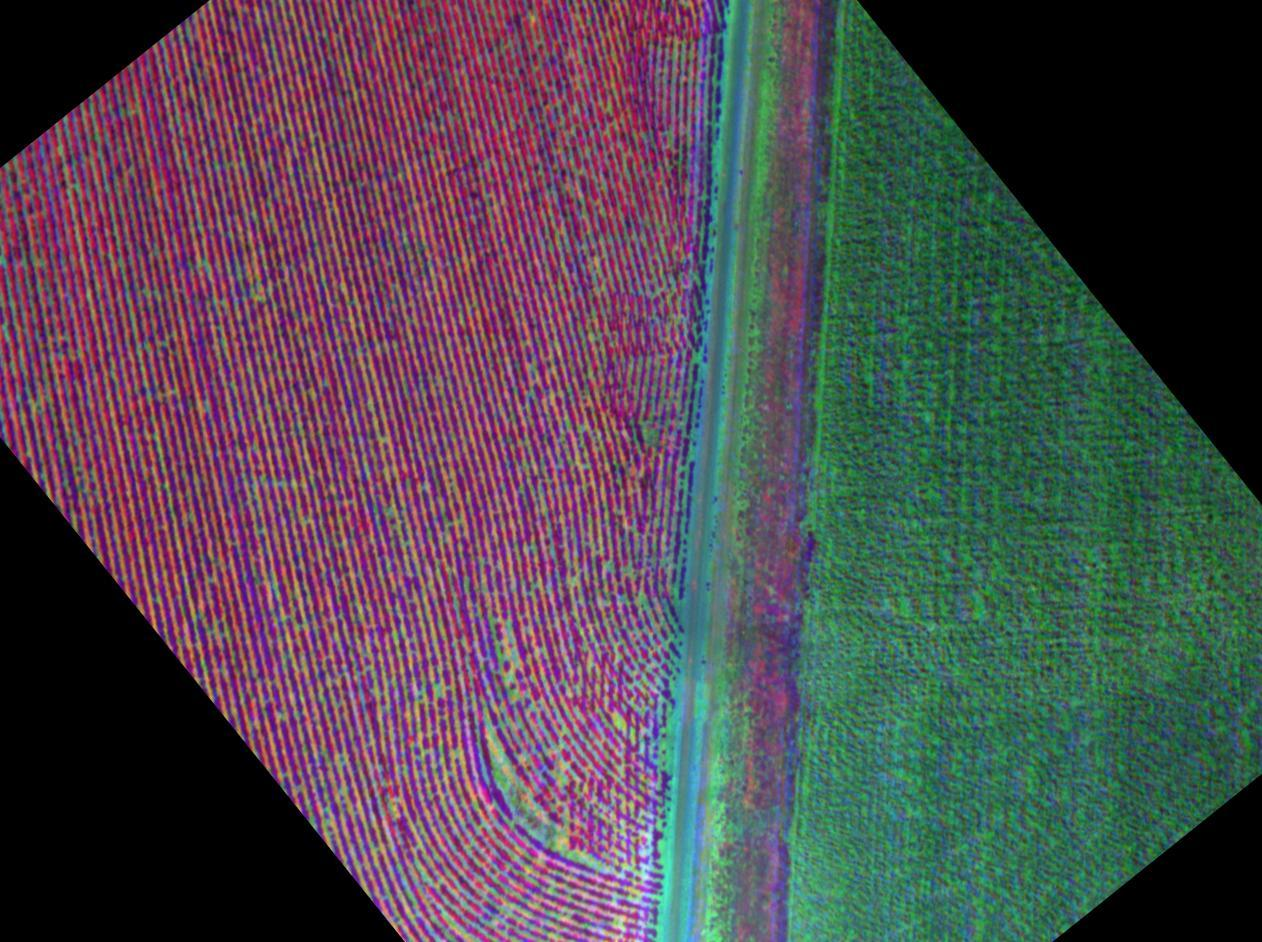dc: (456, 710, 574, 859), (363, 643, 450, 730), (578, 560, 652, 641), (398, 878, 488, 942), (473, 605, 538, 691)
